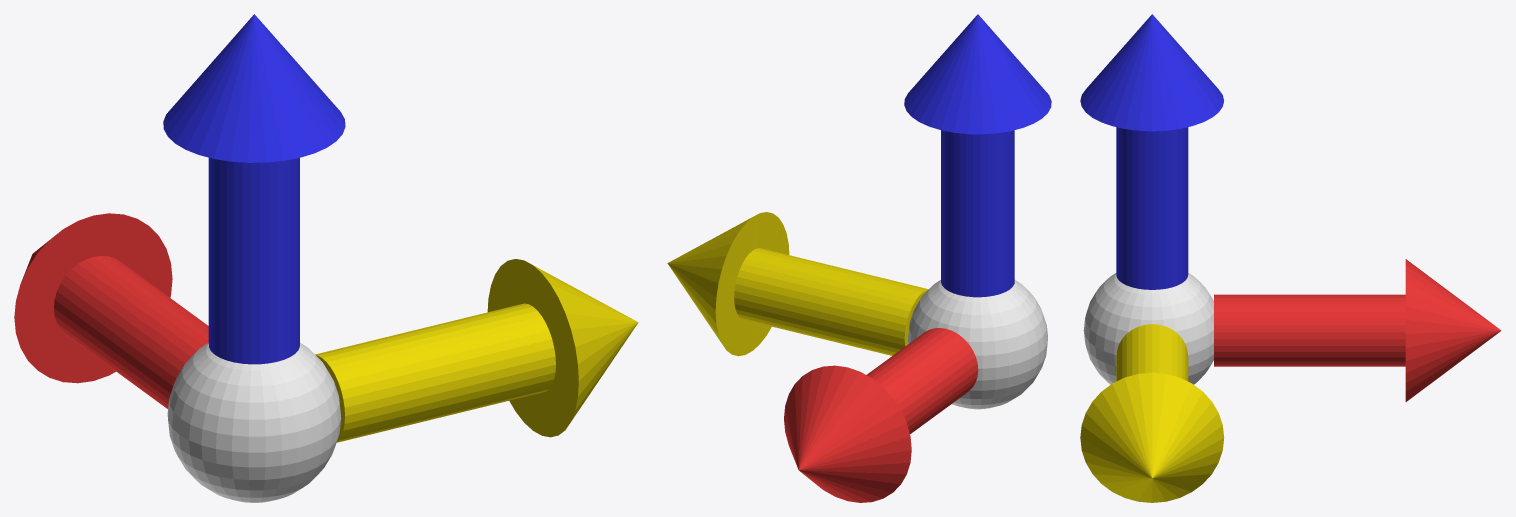
Rendered from LorentzChargeArrows.gltf.
The picture shows the model from 3 angles, left to right: view 1: azimuth 30°, elevation 25°; view 2: azimuth 150°, elevation 25°; view 3: azimuth 270°, elevation 25°; orthographic projection. The views are drawn at different scales.
Parts seen in each view (by area): view 1: Arrow.004, Sphere; view 2: Arrow.004, Sphere; view 3: Arrow.004, Sphere.
Boxes of the visible parts, x1=… form: Arrow.004: x1=14, y1=14, x2=638, y2=442; Sphere: x1=167, y1=343, x2=341, y2=502; Arrow.004: x1=667, y1=14, x2=1051, y2=502; Sphere: x1=907, y1=280, x2=1047, y2=409; Arrow.004: x1=1080, y1=14, x2=1501, y2=502; Sphere: x1=1083, y1=273, x2=1213, y2=384.
Size of the model in its own units: 2.46 by 2.46 by 2.46.
